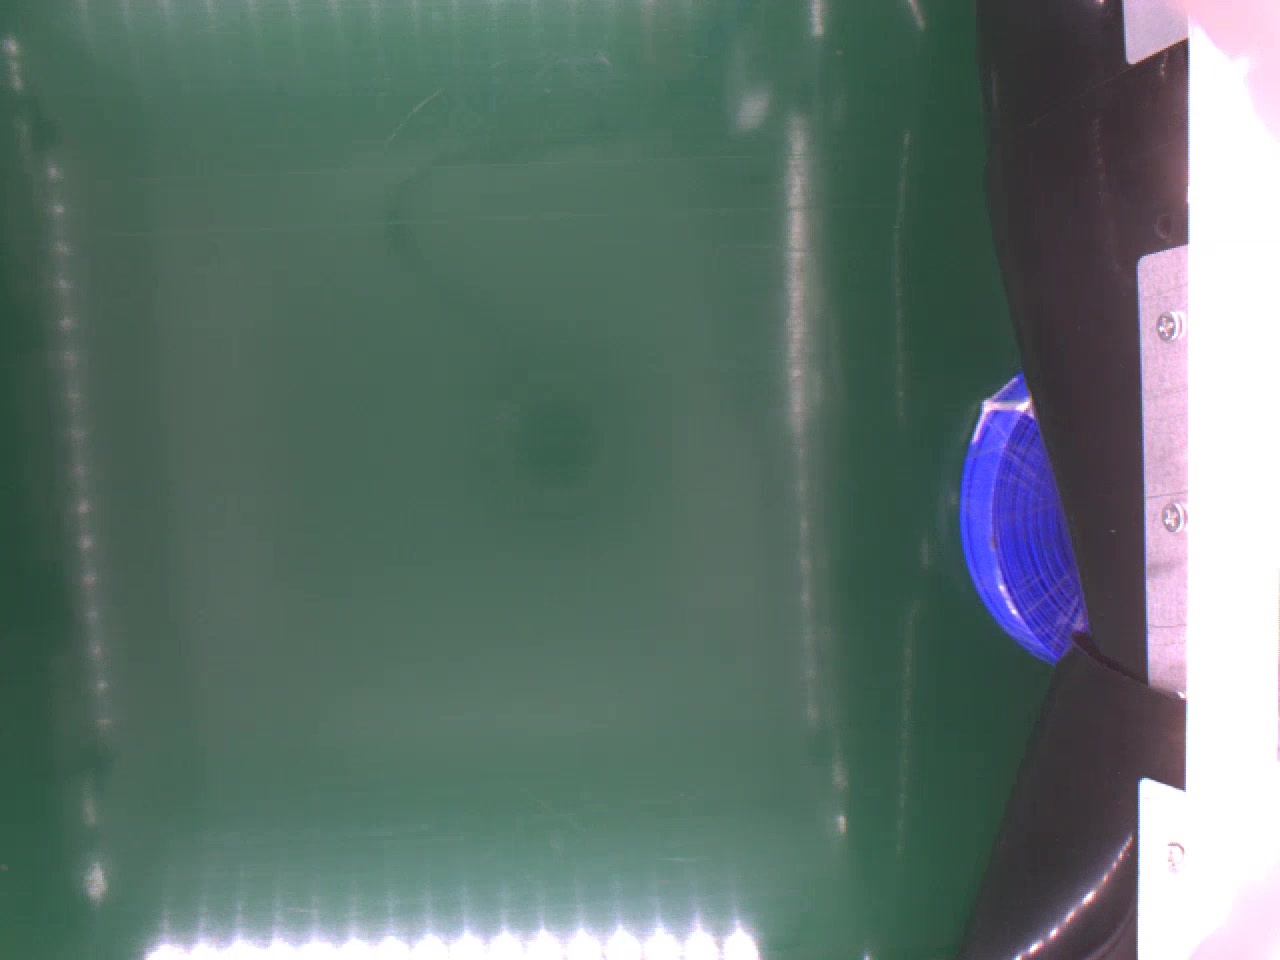blue: (959, 372, 1083, 659)
